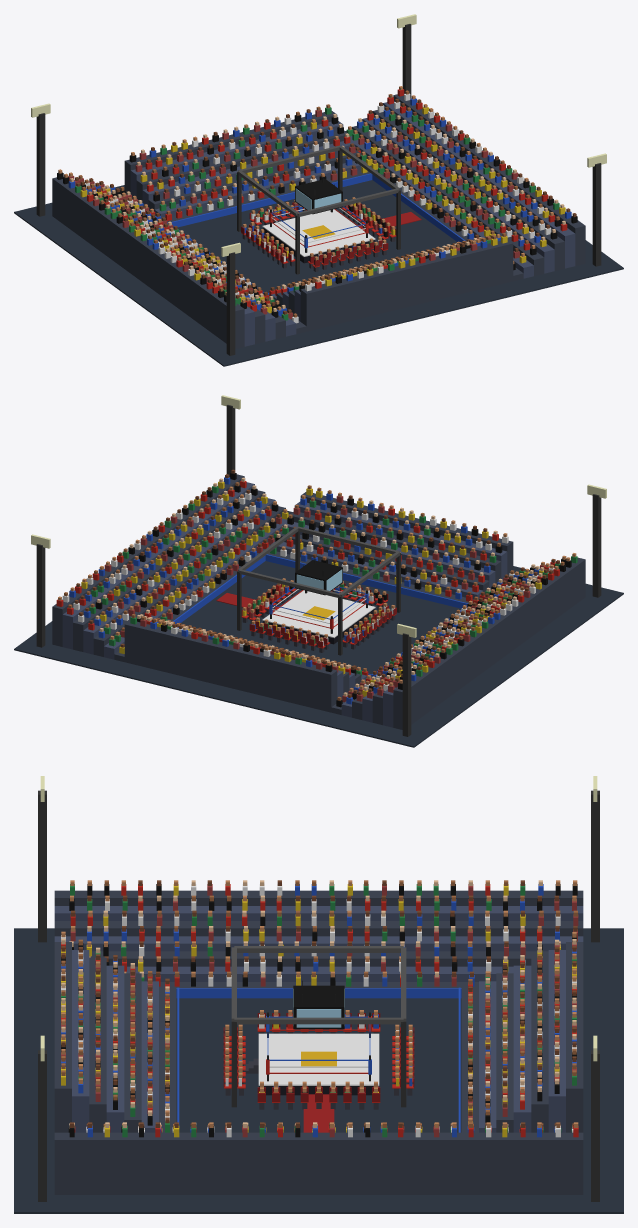
Rendered from escenario_estadio.obj.
The picture shows the model from 3 angles, top to bottom: view 1: azimuth 30°, elevation 25°; view 2: azimuth 150°, elevation 25°; view 3: azimuth 270°, elevation 25°; orthographic projection. The views are drawn at different scales.
Parts seen in each view (by area): view 1: piso_arena, grada_z1_6, grada_x-1_6, publico_ropa_c8281e, publico_ropa_2858c8, publico_ropa_e0c020, publico_ropa_f0f0f0, publico_cabeza_7a4a30, publico_ropa_111111, publico_cabeza_e8c09a, publico_ropa_2a8a4a, publico_cabeza_a66c44 (+29 smaller); view 2: piso_arena, grada_z-1_6, grada_x-1_6, publico_ropa_c8281e, publico_ropa_e0c020, publico_ropa_2858c8, publico_cabeza_7a4a30, publico_ropa_111111, publico_ropa_f0f0f0, publico_ropa_2a8a4a, publico_cabeza_e8c09a, publico_ropa_a04040 (+28 smaller); view 3: piso_arena, grada_x1_6, grada_x-1_6, grada_x-1_4, grada_x-1_5, ring_lona, grada_x-1_3, grada_x-1_2, publico_cabeza_7a4a30, grada_x-1_1, publico_cabeza_e8c09a, publico_cabeza_c98a5c (+36 smaller).
Part boxes in pixels (<box>): piso_arena: <box>14,131,623,366</box>; grada_z1_6: <box>300,239,513,331</box>; grada_x-1_6: <box>52,177,244,348</box>; publico_ropa_c8281e: <box>87,89,567,311</box>; publico_ropa_2858c8: <box>68,98,571,316</box>; publico_ropa_e0c020: <box>80,107,565,313</box>; publico_ropa_f0f0f0: <box>85,93,551,323</box>; publico_cabeza_7a4a30: <box>75,98,576,314</box>; publico_ropa_111111: <box>57,114,577,317</box>; publico_cabeza_e8c09a: <box>70,114,565,311</box>; publico_ropa_2a8a4a: <box>75,107,559,320</box>; publico_cabeza_a66c44: <box>78,90,559,317</box>; piso_arena: <box>14,511,623,747</box>; grada_z-1_6: <box>124,620,337,712</box>; grada_x-1_6: <box>393,557,585,729</box>; publico_ropa_c8281e: <box>56,481,559,687</box>; publico_ropa_e0c020: <box>81,481,543,696</box>; publico_ropa_2858c8: <box>69,477,540,704</box>; publico_cabeza_7a4a30: <box>74,469,559,697</box>; publico_ropa_111111: <box>95,473,571,707</box>; publico_ropa_f0f0f0: <box>62,493,554,690</box>; publico_ropa_2a8a4a: <box>89,486,577,676</box>; publico_cabeza_e8c09a: <box>95,477,544,696</box>; publico_ropa_a04040: <box>104,495,545,702</box>; piso_arena: <box>14,928,623,1213</box>; grada_x1_6: <box>54,1132,583,1194</box>; grada_x-1_6: <box>54,890,583,905</box>; grada_x-1_4: <box>54,921,583,936</box>; grada_x-1_5: <box>54,906,583,920</box>; ring_lona: <box>258,1033,379,1085</box>; grada_x-1_3: <box>54,936,583,951</box>; grada_x-1_2: <box>90,951,548,966</box>; publico_cabeza_7a4a30: <box>61,880,577,1130</box>; grada_x-1_1: <box>126,966,513,981</box>; publico_cabeza_e8c09a: <box>61,880,576,1129</box>; publico_cabeza_c98a5c: <box>61,880,578,1129</box>.
Size of the model in its own units: 65.8 by 17.3 by 59.8.
